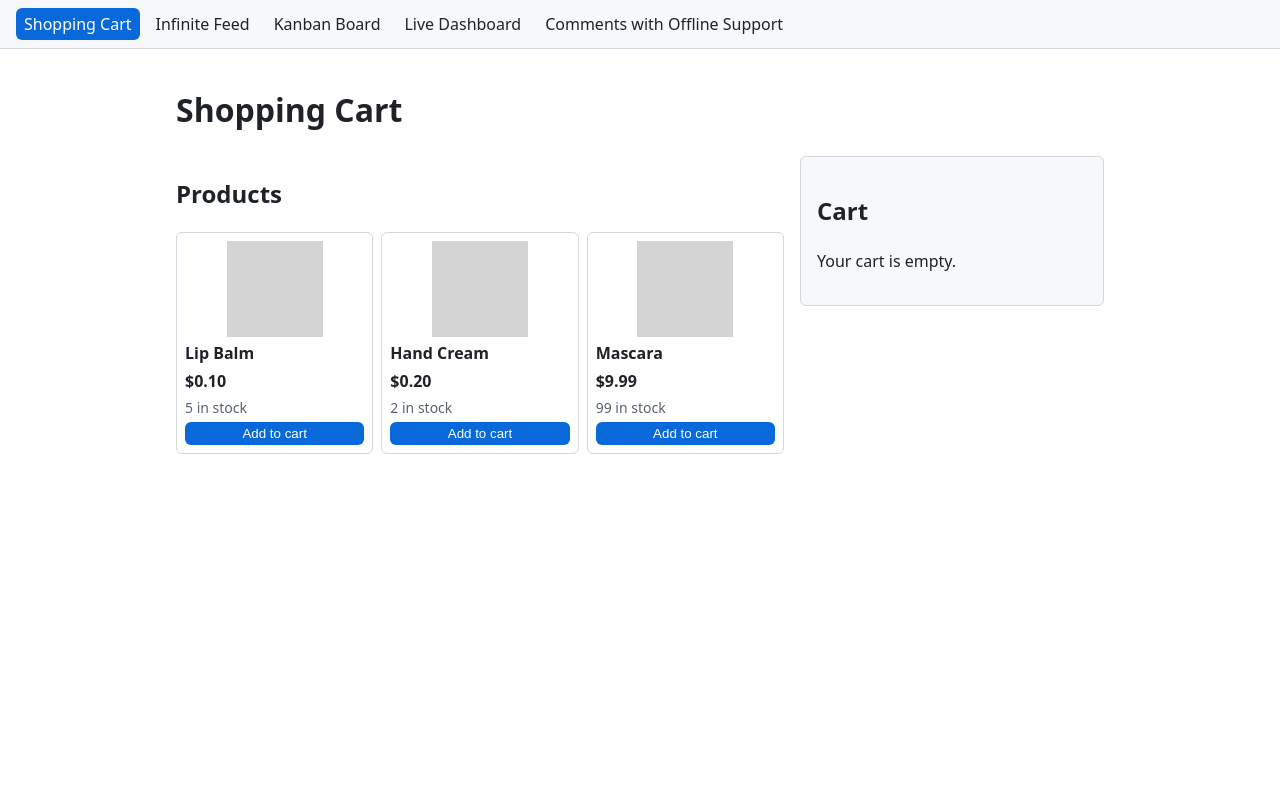
Scenario: app routes › opens the Live Dashboard page from its navigation link
Click the link "Live Dashboard".
click(463, 24)  # box 396,8 -> 529,40
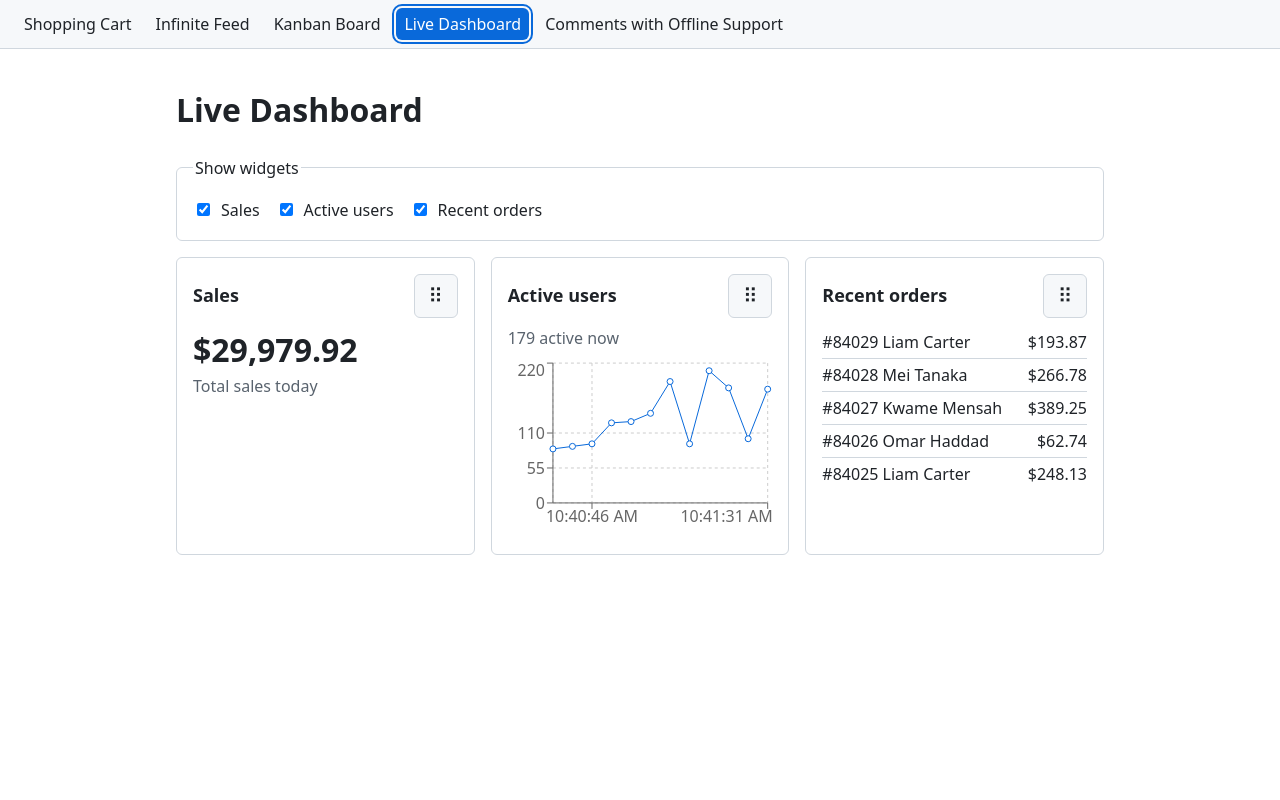
Now the heading "Live Dashboard" is shown, box 176,88 -> 423,131
